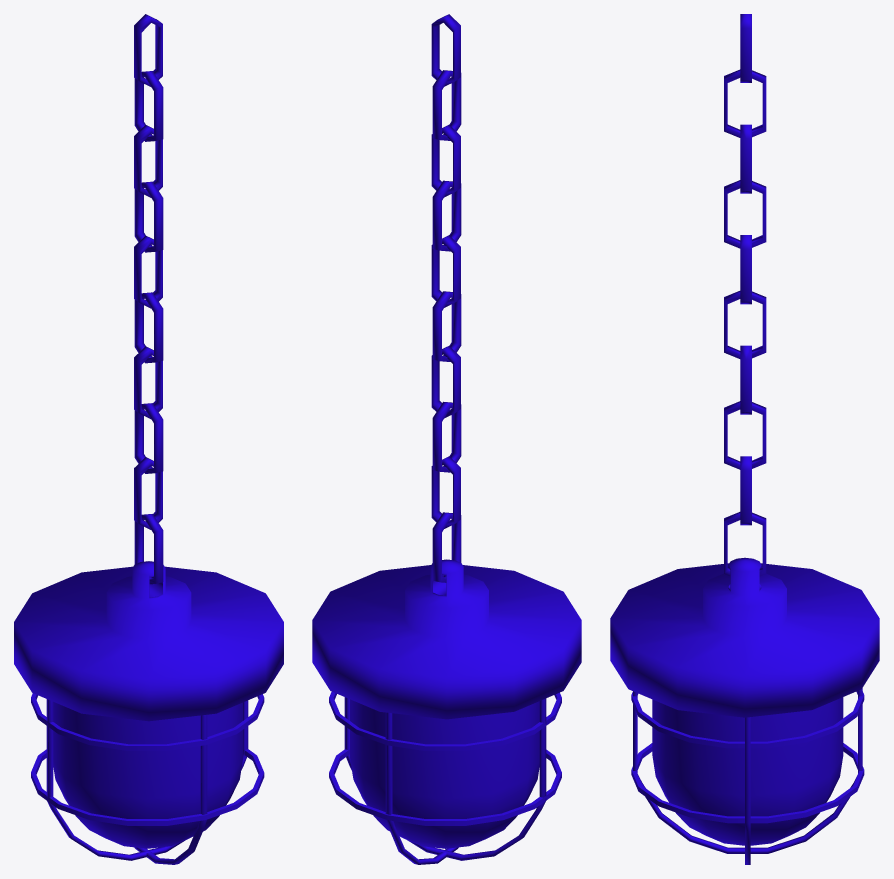
The model's file is Hanging_Light.obj.
3 renders of one model, left to right at view 1: azimuth 30°, elevation 25°; view 2: azimuth 150°, elevation 25°; view 3: azimuth 270°, elevation 25°, orthographic.
Parts seen in each view (by area): view 1: Pub_Lamp_Top, Lamp_Outer_Glass, Chain_link, Lamp_support004, Lamp_support001, Lamp_support002, Lamp_support003; view 2: Pub_Lamp_Top, Lamp_Outer_Glass, Chain_link, Lamp_support004, Lamp_support001, Lamp_support002, Lamp_support003; view 3: Pub_Lamp_Top, Lamp_Outer_Glass, Chain_link, Lamp_support004, Lamp_support003, Lamp_support001, Lamp_support002.
Part boxes in pixels (x1,y1,x2,y2): Pub_Lamp_Top: (14,561,283,721); Lamp_Outer_Glass: (53,702,242,848); Chain_link: (134,14,163,584); Lamp_support004: (31,749,264,825); Lamp_support001: (31,693,264,750); Lamp_support002: (46,699,248,860); Lamp_support003: (134,714,207,864); Pub_Lamp_Top: (312,559,581,719); Lamp_Outer_Glass: (350,699,539,848); Chain_link: (431,14,461,582); Lamp_support004: (329,749,561,825); Lamp_support001: (329,692,561,750); Lamp_support002: (344,697,546,860); Lamp_support003: (385,712,458,864); Pub_Lamp_Top: (610,557,879,717); Lamp_Outer_Glass: (652,697,843,845); Chain_link: (724,14,766,576); Lamp_support004: (631,743,864,823); Lamp_support003: (633,688,862,853); Lamp_support001: (631,691,864,748); Lamp_support002: (745,717,750,864).
Bounding box in the file's own units: 0.4219 × 1.45 × 0.4219.
